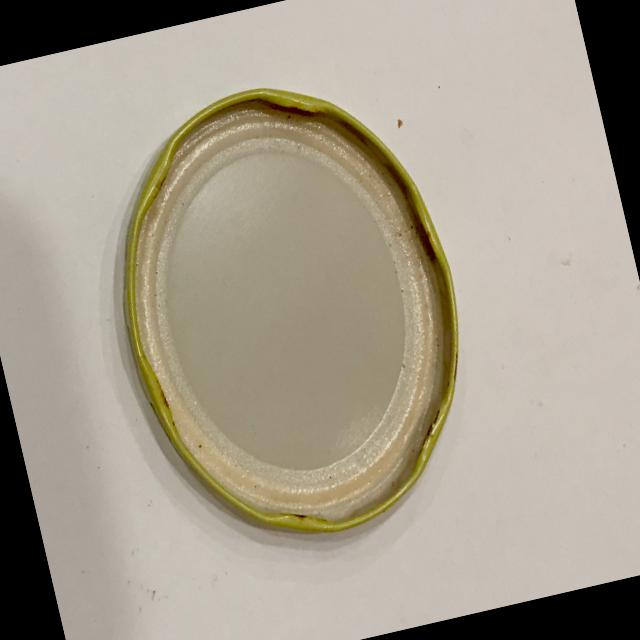Metal: (44, 41, 508, 590)
